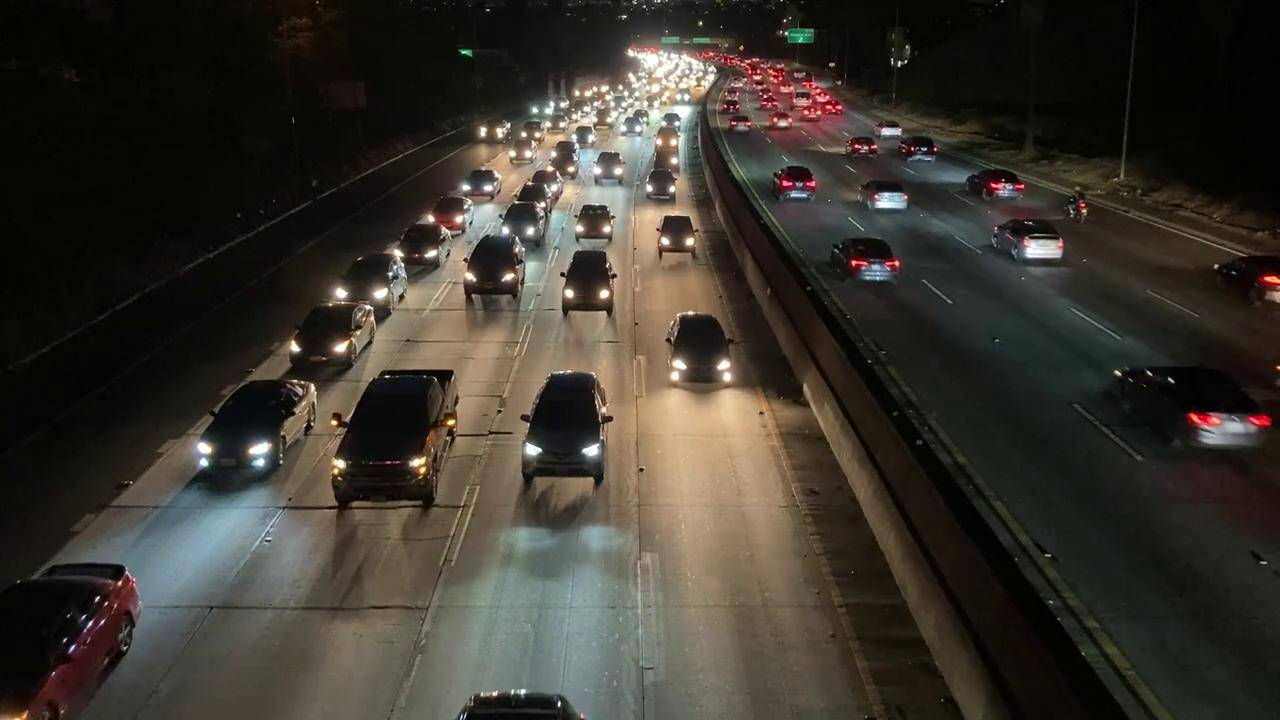car: (0, 554, 142, 716), (328, 366, 472, 501), (181, 369, 327, 492), (1093, 360, 1273, 458), (511, 366, 614, 498), (663, 309, 742, 390), (294, 299, 383, 368), (333, 260, 417, 315), (463, 233, 524, 296), (562, 251, 620, 308), (1215, 253, 1280, 301), (653, 209, 704, 264), (835, 239, 903, 280), (396, 224, 449, 273), (996, 229, 1065, 264), (574, 203, 620, 243), (969, 171, 1027, 201), (861, 178, 910, 211), (774, 167, 820, 202), (504, 202, 549, 237), (513, 179, 558, 208), (461, 170, 500, 201), (593, 148, 626, 184), (643, 168, 677, 201), (895, 135, 935, 159), (478, 119, 513, 143), (536, 168, 567, 194), (870, 117, 903, 140), (510, 139, 535, 166), (728, 116, 757, 139), (848, 138, 881, 157), (571, 127, 603, 146), (759, 112, 797, 128), (618, 114, 645, 136)
